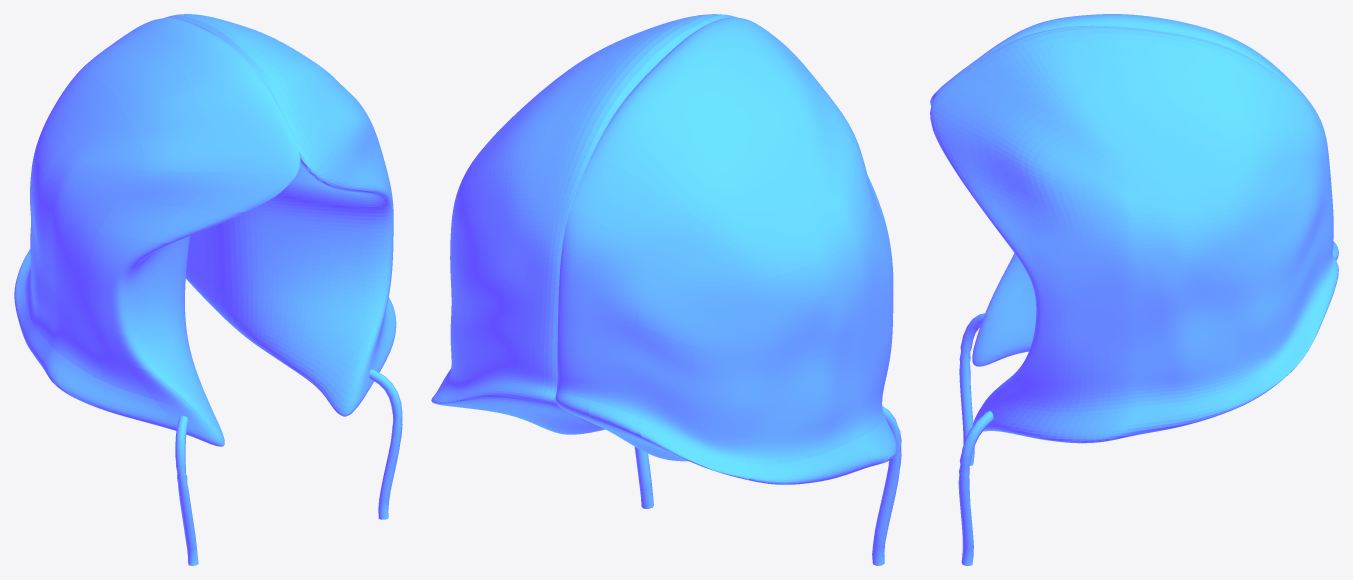
The model's file is Hat.fbx.
3 views of the same model, side by side, from view 1: azimuth 30°, elevation 25°; view 2: azimuth 150°, elevation 25°; view 3: azimuth 270°, elevation 25° (orthographic). The views are drawn at different scales.
Visible parts, largest first — view 1: Cube, Cube_Clone_, Cables04__3_, Cables04__2_; view 2: Cube, Cube_Clone_, Cables04__2_, Cables04__3_; view 3: Cube_Clone_, Cube, Cables04__3_, Cables04__2_.
Part boxes in pixels (x1,y1,x2,y2): Cube: [14, 18, 300, 446]; Cube_Clone_: [164, 14, 396, 416]; Cables04__3_: [369, 369, 402, 519]; Cables04__2_: [175, 415, 198, 565]; Cube: [555, 17, 896, 484]; Cube_Clone_: [431, 14, 738, 434]; Cables04__2_: [872, 406, 901, 565]; Cables04__3_: [634, 447, 653, 508]; Cube_Clone_: [930, 25, 1338, 443]; Cube: [930, 14, 1338, 366]; Cables04__3_: [958, 411, 993, 565]; Cables04__2_: [959, 313, 984, 465].
Size of the model in its own units: 112 by 145 by 109.
